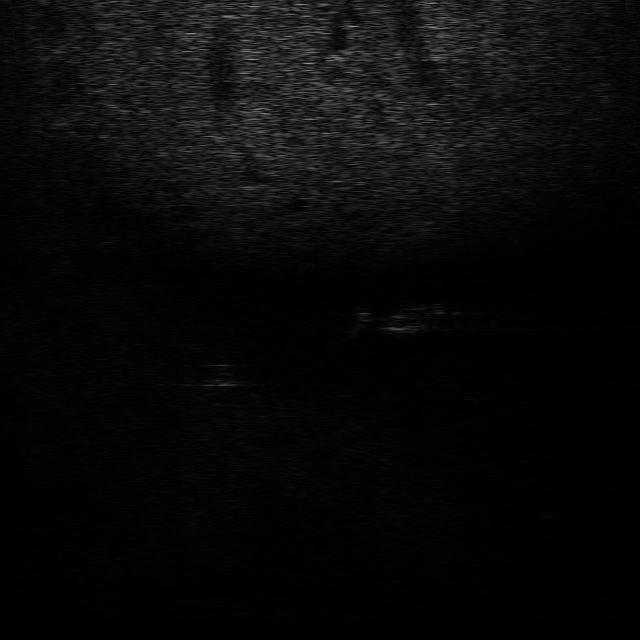ball: (192, 358, 242, 388)
human body: (343, 300, 458, 339)
